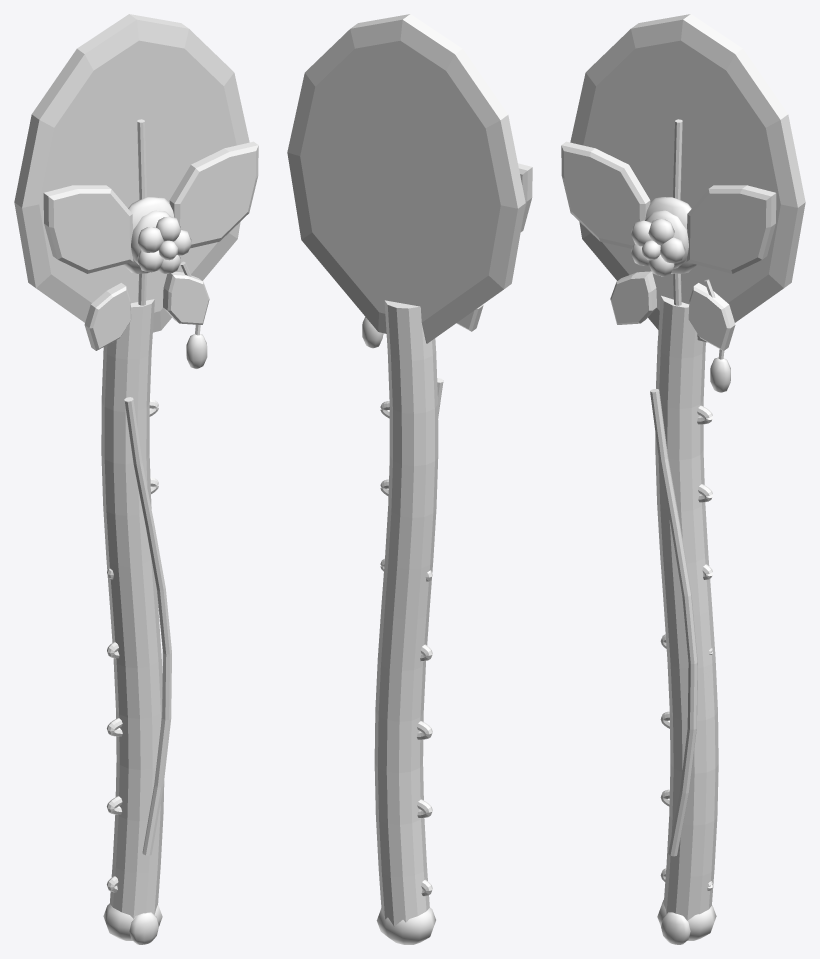
Rendered from shovel.obj.
3 renders of one model, left to right at view 1: azimuth 30°, elevation 25°; view 2: azimuth 150°, elevation 25°; view 3: azimuth 330°, elevation 25°, orthographic.
Size of the model in its own units: 0.275 by 1.05 by 0.1089.
